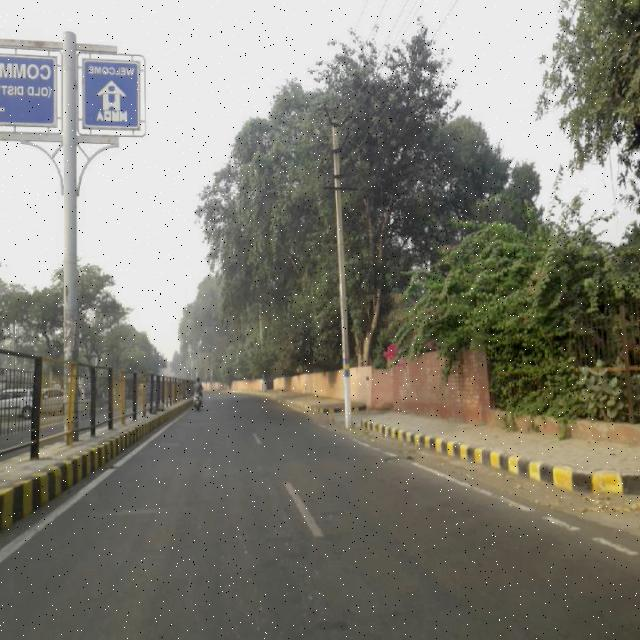D44: (523, 503, 640, 564), (420, 462, 519, 502)
